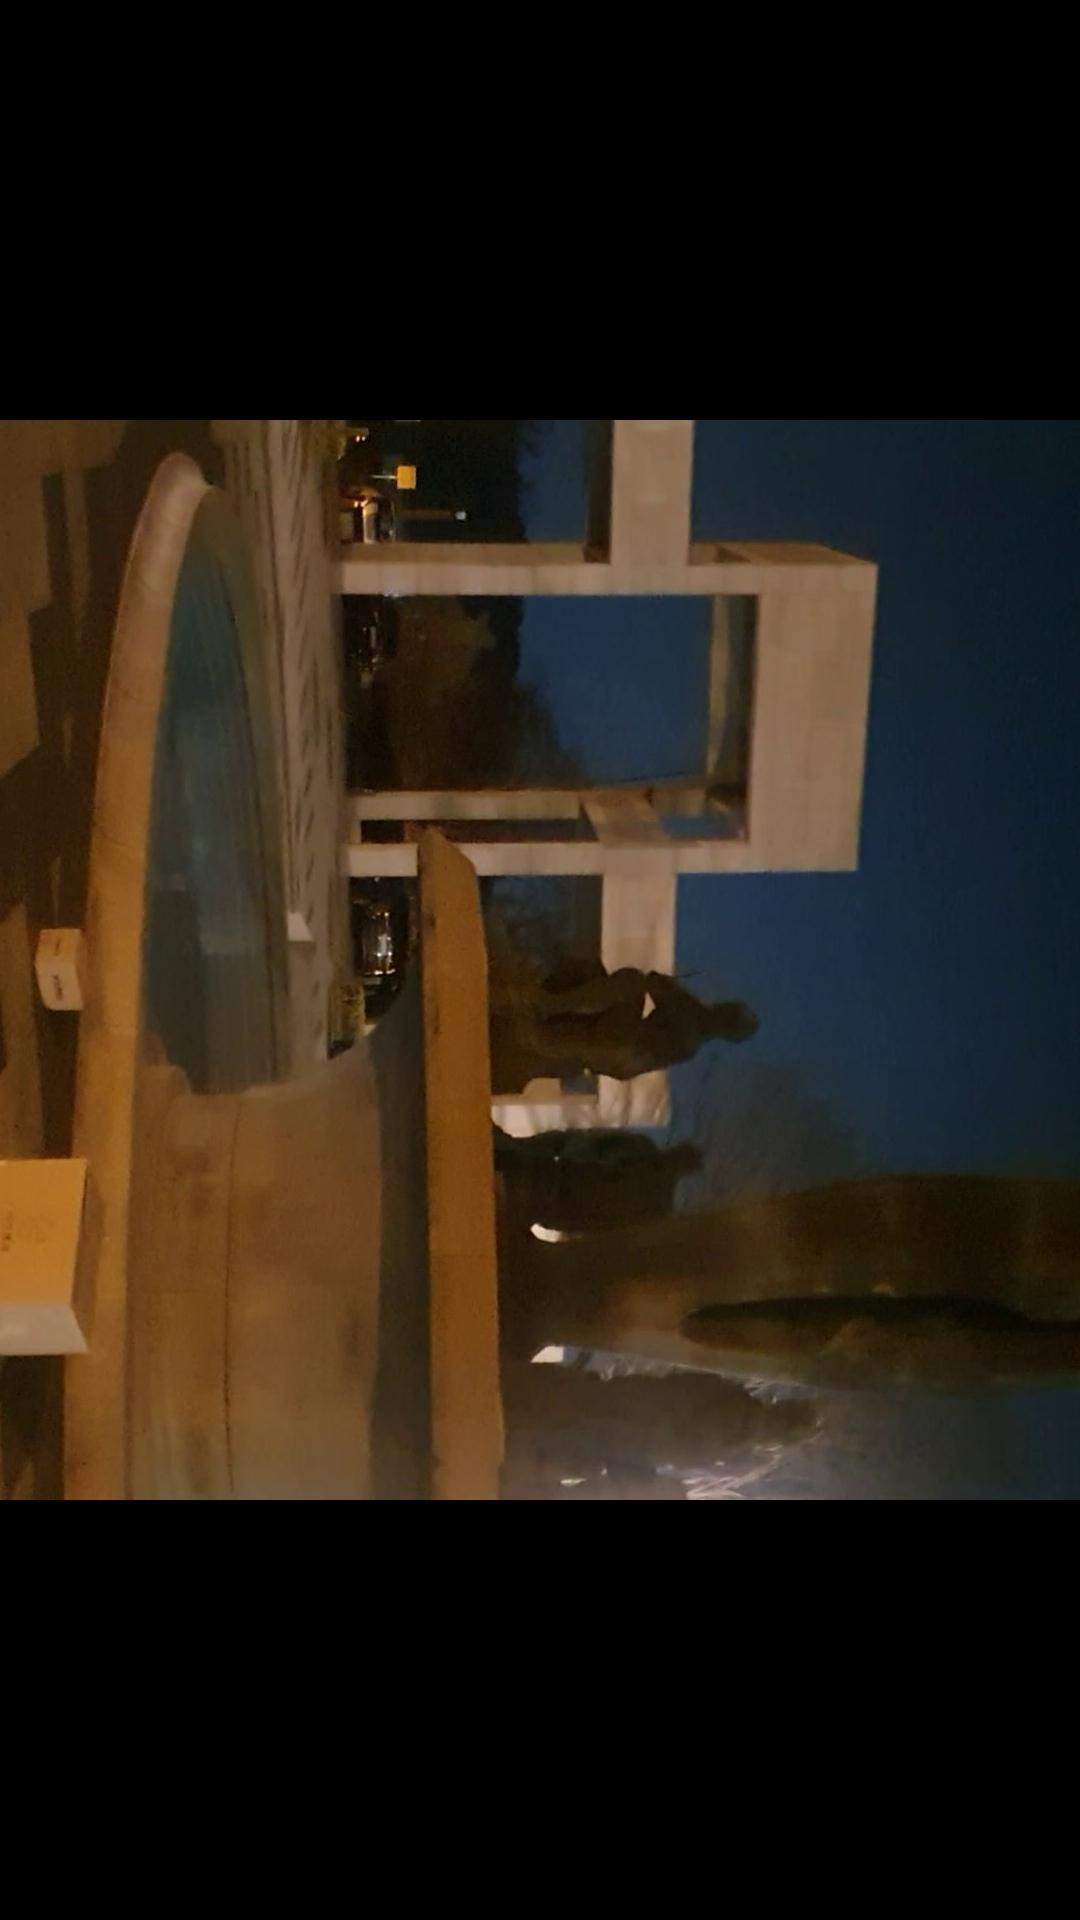Box: (0, 1143, 115, 1362), (30, 920, 98, 1015)
